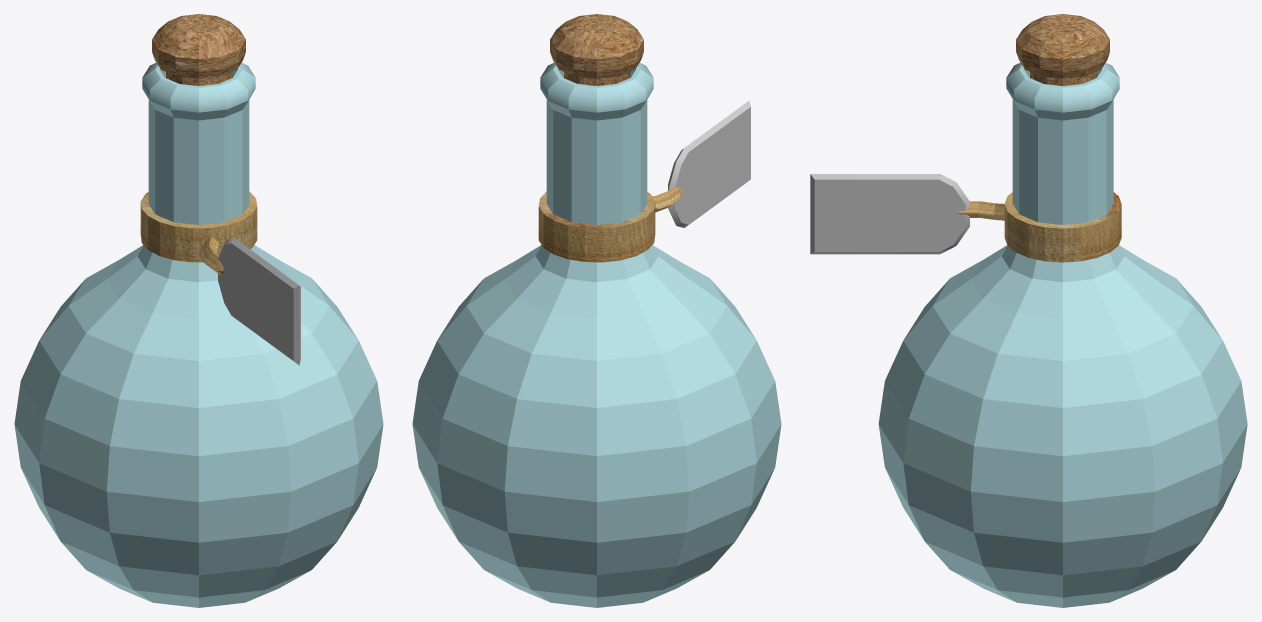
The model's file is DIB_bottle.fbx.
The picture shows the model from 3 angles, left to right: view 1: azimuth 30°, elevation 25°; view 2: azimuth 150°, elevation 25°; view 3: azimuth 270°, elevation 25°; orthographic projection.
Visible parts, largest first — view 1: bottle1, tag1, corque1, bamd; view 2: bottle1, tag1, corque1, bamd; view 3: bottle1, tag1, bamd, corque1.
Part boxes in pixels (x1,y1,x2,y2): bottle1: (14, 62, 383, 607); tag1: (218, 238, 300, 365); corque1: (152, 14, 245, 85); bamd: (140, 191, 257, 274); bottle1: (412, 62, 781, 607); tag1: (668, 100, 750, 227); corque1: (550, 14, 643, 85); bamd: (538, 187, 682, 262); bottle1: (878, 62, 1247, 607); tag1: (810, 174, 969, 254); bamd: (956, 192, 1121, 262); corque1: (1016, 14, 1109, 85).
Bounding box in the file's own units: 2.77 × 4.7 × 3.28.
